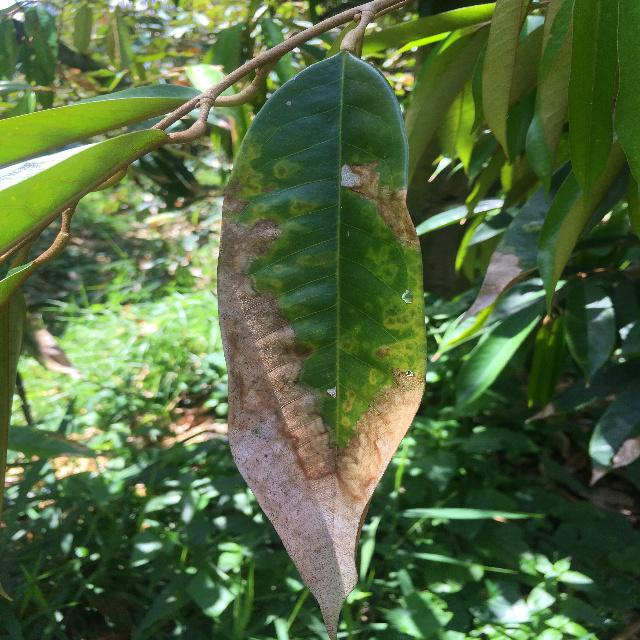Leaf Blight: (213, 41, 435, 639)
